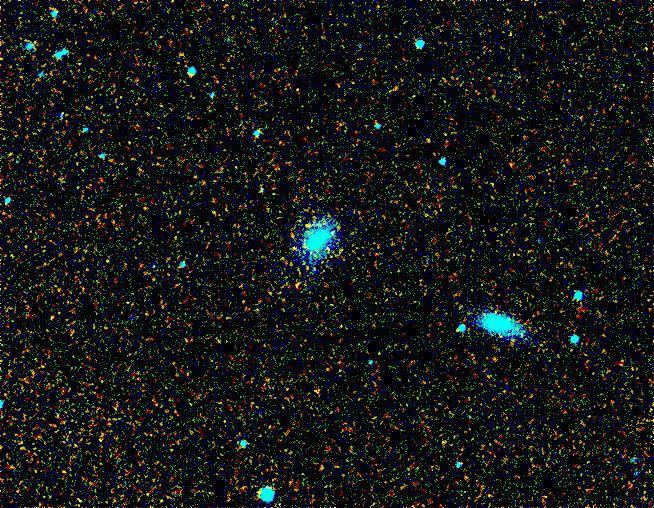star: (480, 344, 510, 374)
